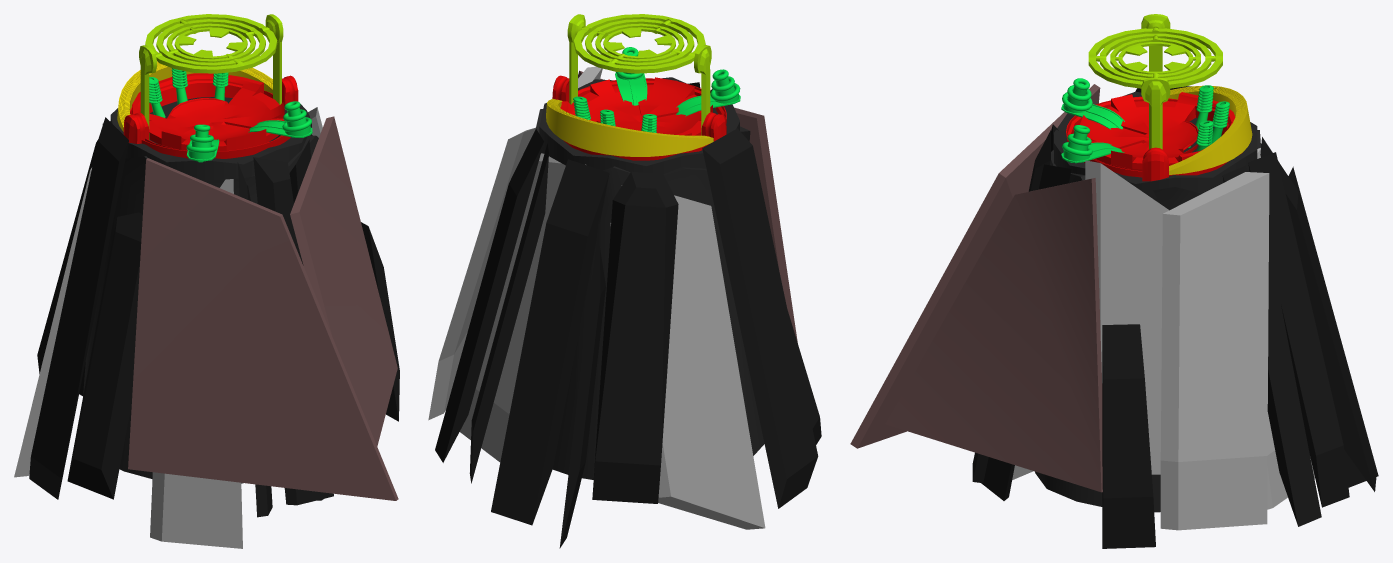
The model's file is SKM_Tesla.fbx.
3 views of the same model, side by side, from view 1: azimuth 30°, elevation 25°; view 2: azimuth 150°, elevation 25°; view 3: azimuth 270°, elevation 25° (orthographic). The views are drawn at different scales.
Parts seen in each view (by area): view 1: Front_Slab_R, Front_Slab_L, Strut_9, Strut_11, Dome_Base, Big_Strut_2, Center_Cylinder, Disc, Strut_8, Big_Strut_3, Ring_1, Arms (+9 smaller); view 2: Big_Strut_3, Strut_5, Strut_1, Strut_9, Center_Cylinder, Strut_4, Dome_Base, Big_Strut_4, Big_Strut_1, Strut_7, Strut_2, Section_10 (+10 smaller); view 3: Front_Slab_L, Big_Strut_1, Big_Strut_5, Strut_10, Strut_7, Front_Slab_R, Dome_Base, Strut_4, Strut_1, Disc, Center_Cylinder, Ring_1 (+10 smaller).
Boxes of the visible parts, <box> form: Front_Slab_R: <box>128,158,398,500</box>; Front_Slab_L: <box>290,116,397,446</box>; Strut_9: <box>29,117,128,499</box>; Strut_11: <box>67,212,142,499</box>; Dome_Base: <box>123,73,298,158</box>; Big_Strut_2: <box>150,179,242,548</box>; Center_Cylinder: <box>83,124,318,483</box>; Disc: <box>110,97,311,180</box>; Strut_8: <box>253,157,333,505</box>; Big_Strut_3: <box>14,168,91,477</box>; Ring_1: <box>145,14,277,73</box>; Arms: <box>139,14,283,139</box>; Big_Strut_3: <box>610,185,765,529</box>; Strut_5: <box>592,171,678,503</box>; Strut_1: <box>491,159,609,525</box>; Strut_9: <box>702,128,818,508</box>; Center_Cylinder: <box>535,109,764,479</box>; Strut_4: <box>435,129,544,462</box>; Dome_Base: <box>552,75,726,160</box>; Big_Strut_4: <box>459,153,585,462</box>; Big_Strut_1: <box>428,127,535,420</box>; Strut_7: <box>469,143,548,483</box>; Strut_2: <box>559,219,605,548</box>; Section_10: <box>546,99,713,156</box>; Front_Slab_L: <box>885,178,1102,492</box>; Big_Strut_1: <box>1160,172,1269,530</box>; Big_Strut_5: <box>1085,160,1169,474</box>; Strut_10: <box>1102,324,1155,548</box>; Strut_7: <box>1248,152,1349,507</box>; Front_Slab_R: <box>850,84,1100,448</box>; Dome_Base: <box>1066,92,1242,181</box>; Strut_4: <box>1222,165,1321,526</box>; Strut_1: <box>1260,137,1376,491</box>; Disc: <box>1054,91,1257,198</box>; Center_Cylinder: <box>1035,130,1260,512</box>; Ring_1: <box>1088,27,1222,88</box>.
Size of the model in its own units: 489 by 614 by 638.
